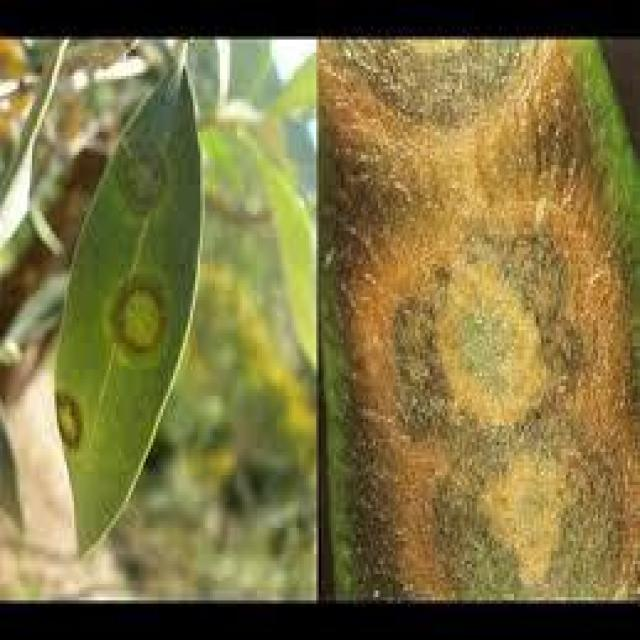Peacock Eye: (319, 43, 638, 597), (57, 66, 200, 561)
